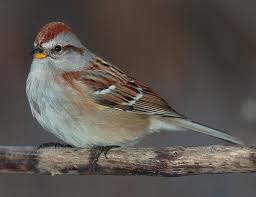hsparrow: (22, 20, 246, 179)
